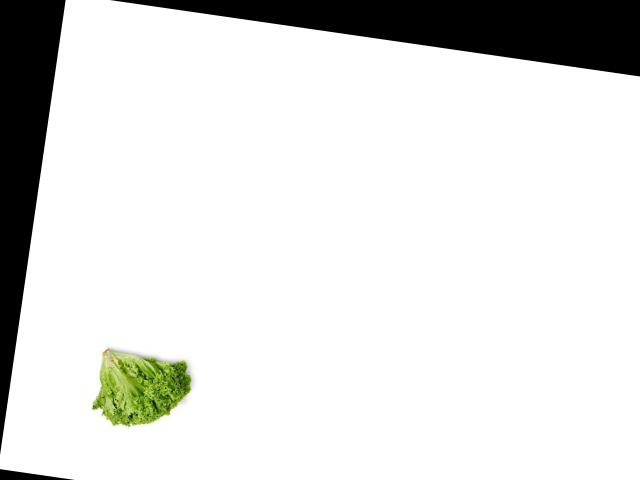lettuce: (85, 339, 200, 440)
